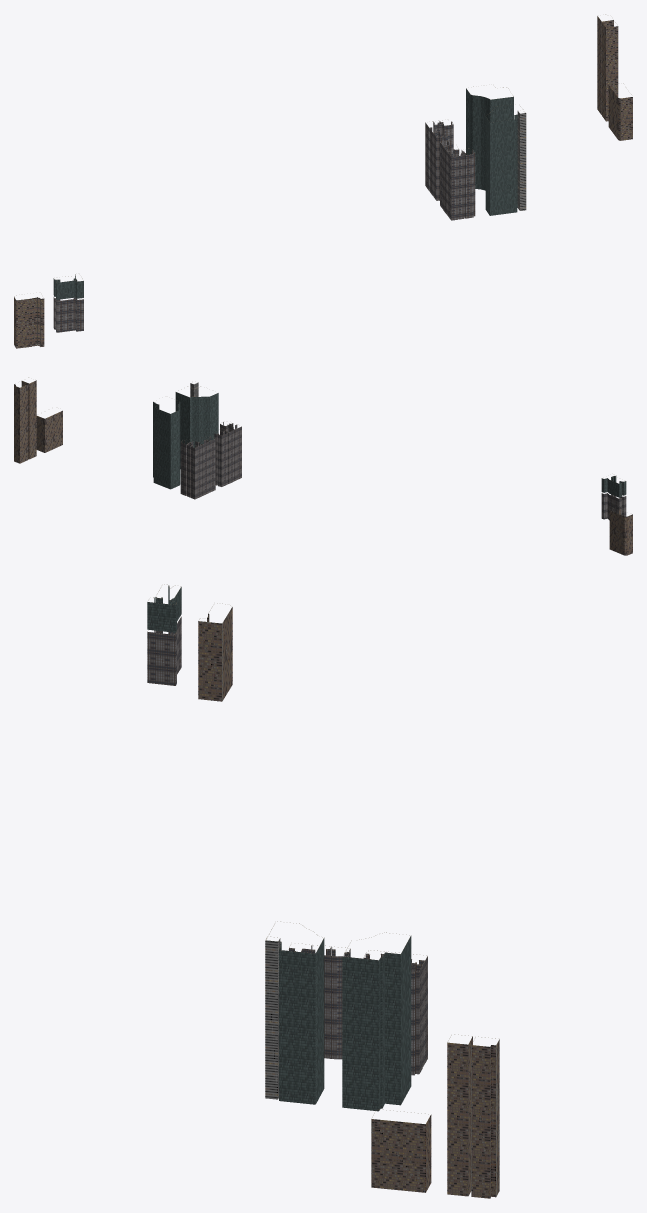
3 renders of one model, top to bottom at view 1: azimuth 30°, elevation 25°; view 2: azimuth 150°, elevation 25°; view 3: azimuth 270°, elevation 25°, orthographic. The views are drawn at different scales.
Parts seen in each view (by area): view 1: Facade005, Facade020A, Facade013, Facade015; view 2: Facade005, Facade020A, Facade013; view 3: Facade005, Facade013, Facade020A, Facade015.
Boxes of the visible parts, x1=… form: Facade005: x1=53, y1=88, x2=517, y2=299; Facade020A: x1=53, y1=121, x2=475, y2=332; Facade013: x1=14, y1=16, x2=632, y2=348; Facade015: x1=517, y1=111, x2=526, y2=210; Facade005: x1=153, y1=392, x2=626, y2=497; Facade020A: x1=180, y1=422, x2=626, y2=520; Facade013: x1=14, y1=380, x2=632, y2=555; Facade005: x1=147, y1=585, x2=411, y2=1111; Facade013: x1=198, y1=607, x2=499, y2=1198; Facade020A: x1=147, y1=617, x2=427, y2=1075; Facade015: x1=265, y1=938, x2=280, y2=1099.
Bounding box in the file's own units: 1578 × 237 × 438.
Materials: 5 (5 with a texture image).
